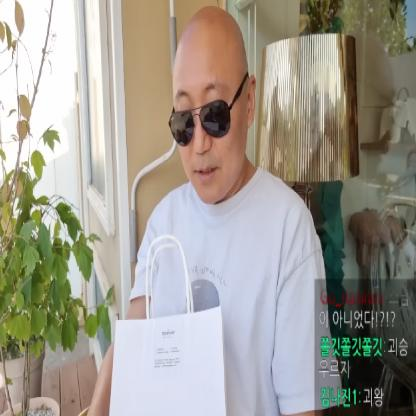streamer: (88, 4, 344, 416)
